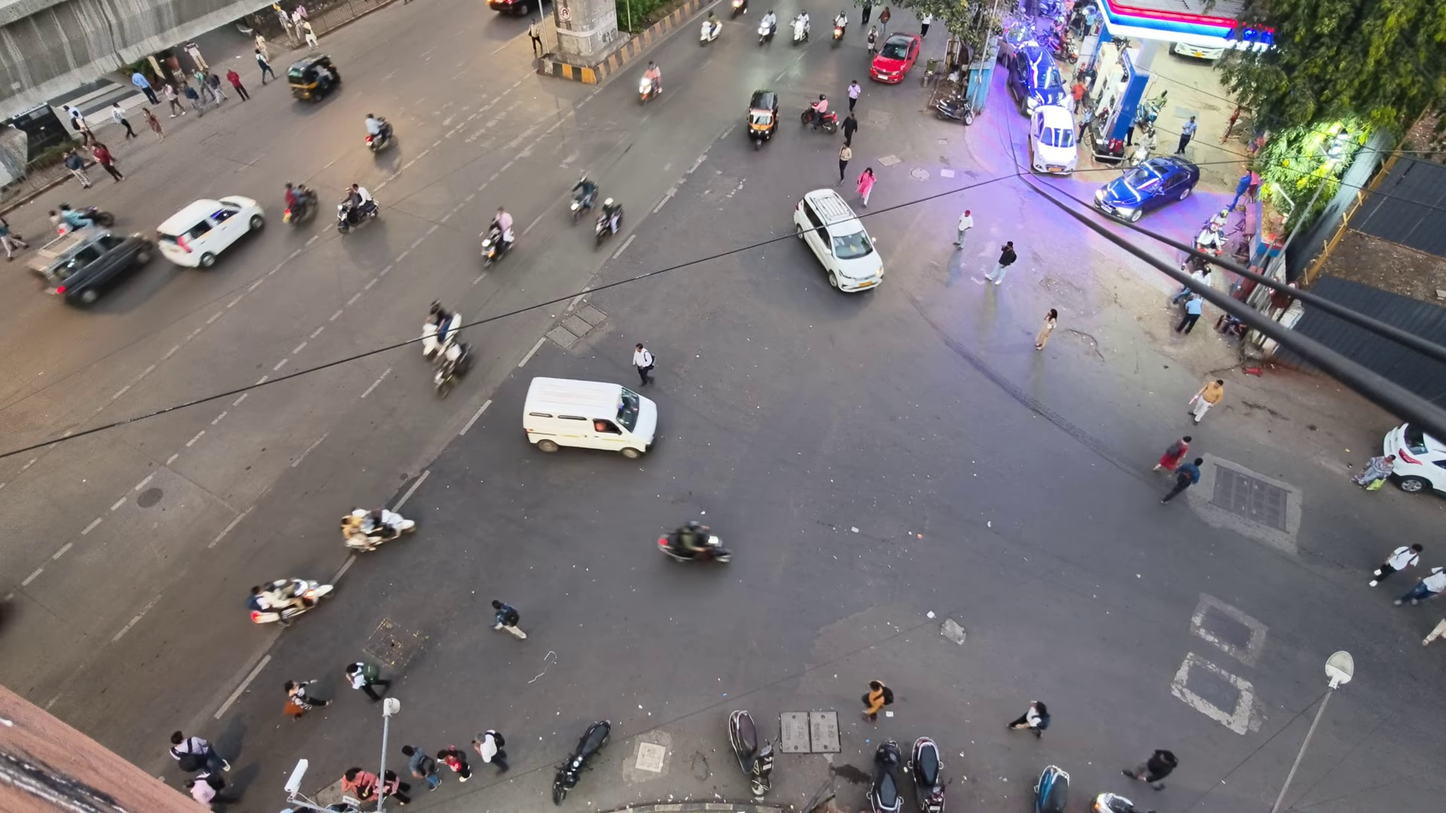walking: (341, 767, 410, 805), (169, 730, 229, 772), (1368, 544, 1423, 586), (1122, 750, 1177, 790), (1160, 458, 1203, 504), (1394, 568, 1445, 605), (401, 744, 441, 790), (284, 681, 331, 720), (345, 662, 391, 701), (188, 773, 237, 808), (1188, 379, 1224, 424), (472, 729, 508, 772), (1008, 701, 1049, 737), (1353, 454, 1396, 488), (1152, 435, 1191, 471), (491, 599, 526, 638), (985, 241, 1016, 285), (92, 142, 124, 181), (0, 217, 29, 260), (862, 680, 892, 721), (437, 746, 471, 781), (1176, 294, 1202, 333), (64, 149, 90, 187), (110, 102, 135, 139), (633, 343, 654, 385), (1220, 105, 1242, 143), (1175, 117, 1197, 154), (133, 72, 158, 104), (1036, 309, 1056, 349), (953, 209, 973, 248), (255, 47, 276, 84), (856, 167, 875, 207), (163, 83, 185, 117), (225, 69, 249, 100), (193, 69, 215, 101), (142, 108, 164, 140), (182, 84, 203, 115), (206, 73, 226, 104), (841, 109, 858, 145), (298, 20, 319, 49), (1422, 619, 1445, 645), (528, 21, 544, 56), (1078, 105, 1094, 140), (838, 142, 851, 184), (1070, 78, 1085, 111), (847, 80, 861, 112), (1191, 263, 1210, 285), (879, 6, 890, 38), (255, 33, 268, 59), (920, 14, 932, 38), (862, 0, 871, 24)
